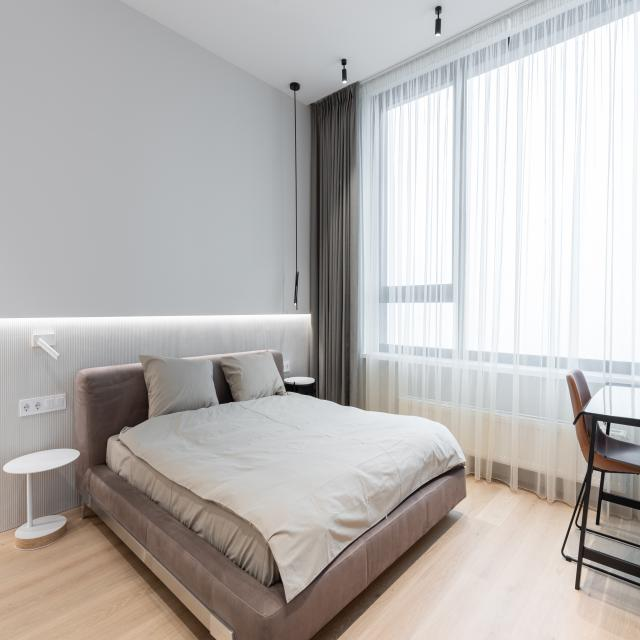floor: (309, 473, 640, 640), (0, 504, 215, 640), (586, 507, 640, 545), (584, 530, 640, 566), (583, 558, 640, 583), (563, 504, 581, 559), (577, 505, 584, 526)
